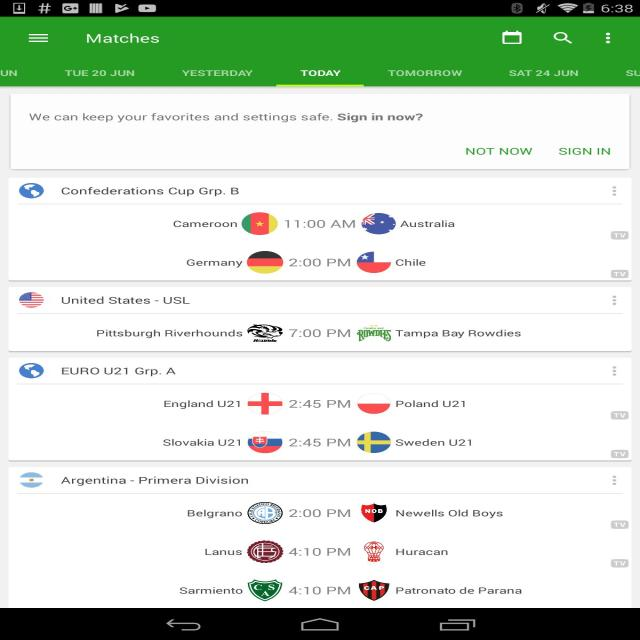button: (54, 59, 154, 87), (495, 62, 591, 88), (173, 61, 261, 88), (380, 64, 476, 86), (274, 64, 364, 85), (548, 143, 624, 162), (540, 26, 585, 50), (20, 28, 63, 52), (598, 546, 634, 572), (497, 23, 528, 50), (0, 59, 32, 85), (590, 26, 624, 50), (608, 62, 640, 84), (601, 516, 640, 534), (600, 182, 631, 201), (606, 406, 638, 424), (601, 266, 639, 280), (606, 468, 628, 491), (605, 229, 638, 244), (604, 365, 631, 383), (599, 293, 629, 309), (601, 445, 635, 458)
heading: (81, 30, 172, 48)
image: (244, 246, 286, 278), (244, 388, 290, 416), (243, 498, 284, 527), (240, 321, 285, 346), (244, 538, 284, 566), (350, 248, 396, 272), (244, 429, 288, 454), (237, 209, 279, 235), (350, 392, 394, 416), (353, 429, 392, 456), (358, 209, 396, 236), (355, 538, 390, 567), (245, 576, 284, 602), (352, 576, 391, 601), (353, 499, 389, 524), (352, 325, 394, 345), (15, 469, 48, 490), (13, 182, 47, 200), (16, 361, 47, 380), (15, 292, 45, 308)
link: (464, 146, 536, 158)
text: (26, 109, 428, 125), (60, 185, 249, 200), (392, 582, 525, 600), (58, 292, 190, 308), (95, 326, 242, 340), (394, 326, 524, 341), (58, 476, 252, 486), (391, 506, 508, 521), (56, 364, 177, 377), (283, 433, 356, 454), (283, 215, 359, 233), (160, 396, 245, 412), (289, 324, 355, 343), (286, 504, 354, 522), (283, 584, 351, 602), (158, 435, 242, 449), (288, 545, 354, 562), (286, 256, 352, 272), (291, 396, 354, 412), (189, 542, 249, 558), (395, 397, 468, 410), (387, 66, 466, 78), (387, 545, 458, 558), (393, 436, 474, 447), (64, 66, 137, 78), (397, 216, 458, 230), (172, 218, 240, 230), (182, 256, 244, 269), (507, 68, 580, 79), (177, 68, 256, 78), (177, 585, 246, 596), (184, 508, 243, 520), (556, 147, 617, 157), (294, 66, 348, 77), (397, 253, 430, 270)
